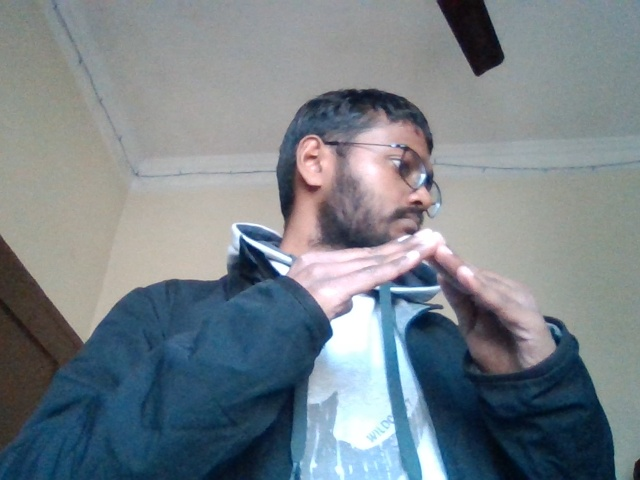house: (291, 247, 547, 368)
